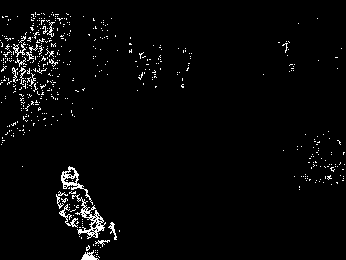person: (56, 164, 118, 260)
